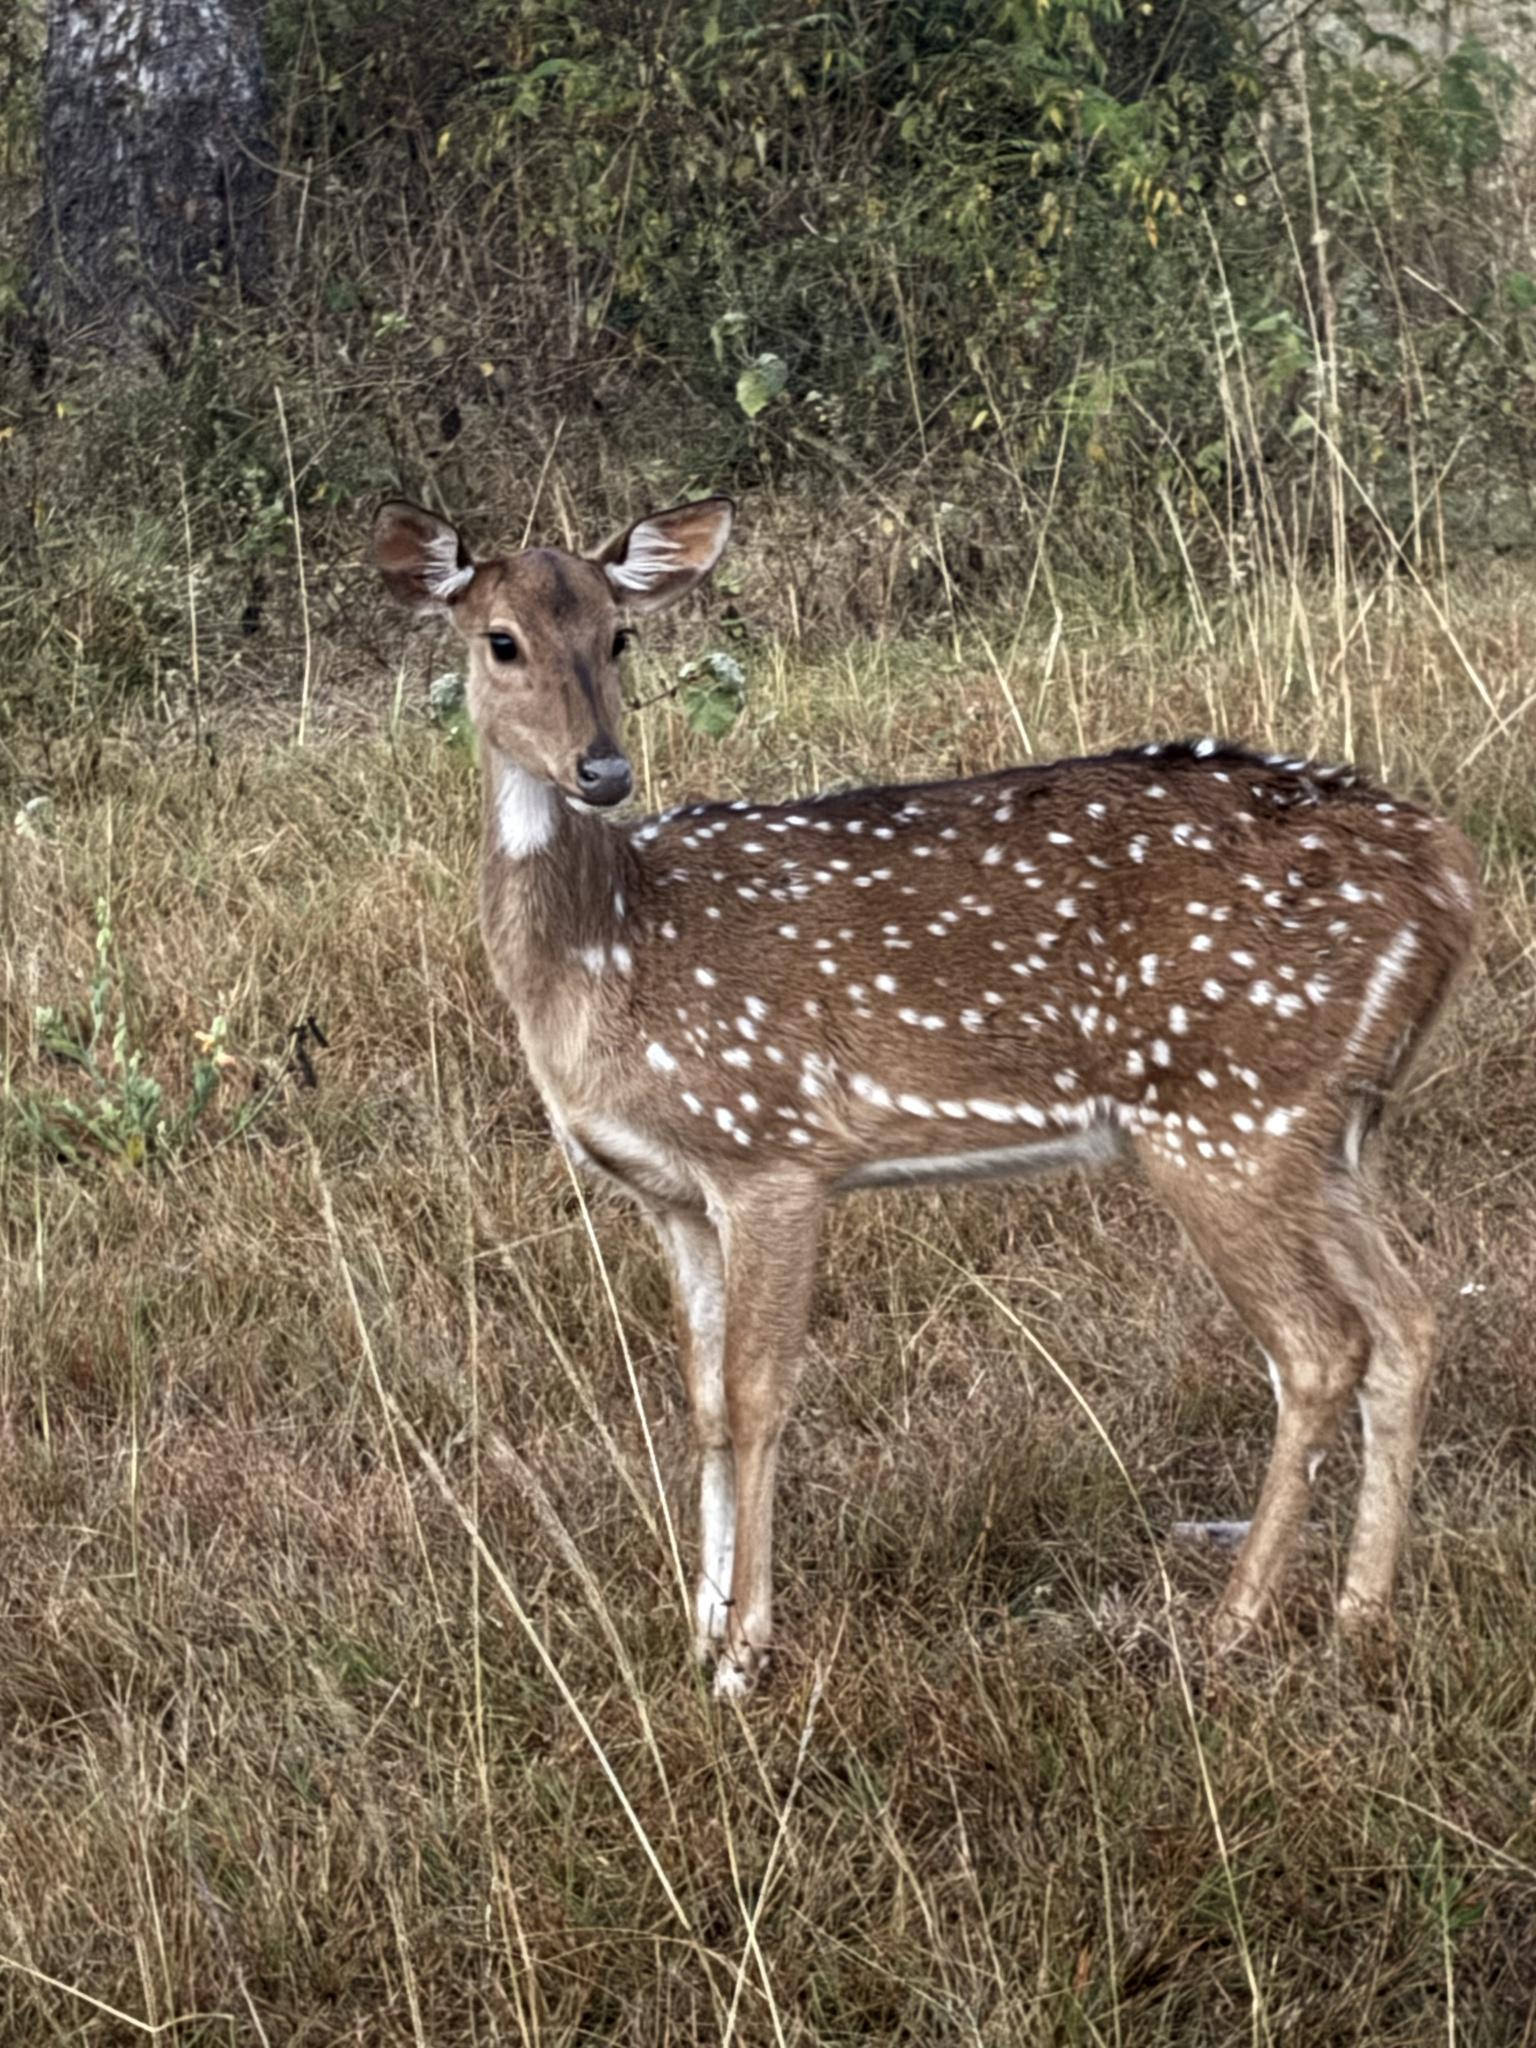Deer: (371, 502, 1480, 1696)
